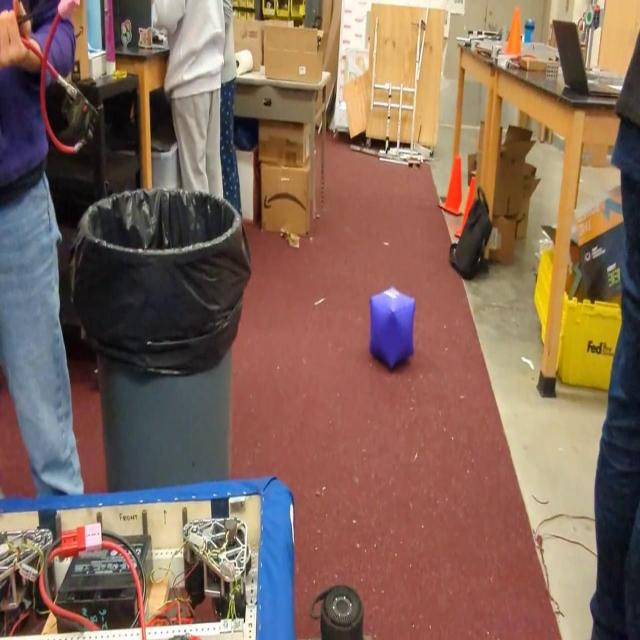frc_cube: (369, 286, 415, 371)
